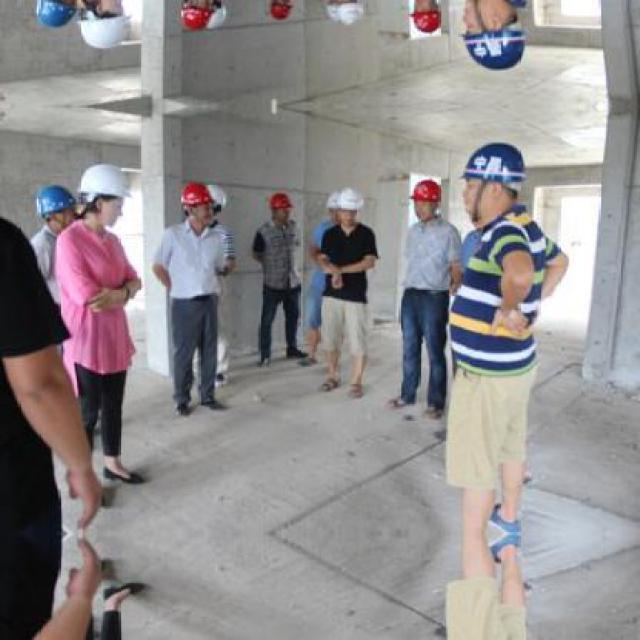helmet: (456, 142, 526, 230), (455, 0, 528, 71), (74, 156, 132, 228), (74, 0, 134, 57), (27, 178, 75, 228), (176, 179, 218, 227), (26, 0, 75, 35), (175, 0, 220, 34), (408, 175, 441, 218), (328, 185, 364, 224), (408, 0, 442, 39), (264, 189, 293, 226), (328, 0, 366, 28), (206, 179, 226, 227), (263, 0, 294, 25), (205, 0, 226, 34)
